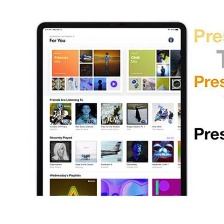phone: (33, 17, 190, 222)
